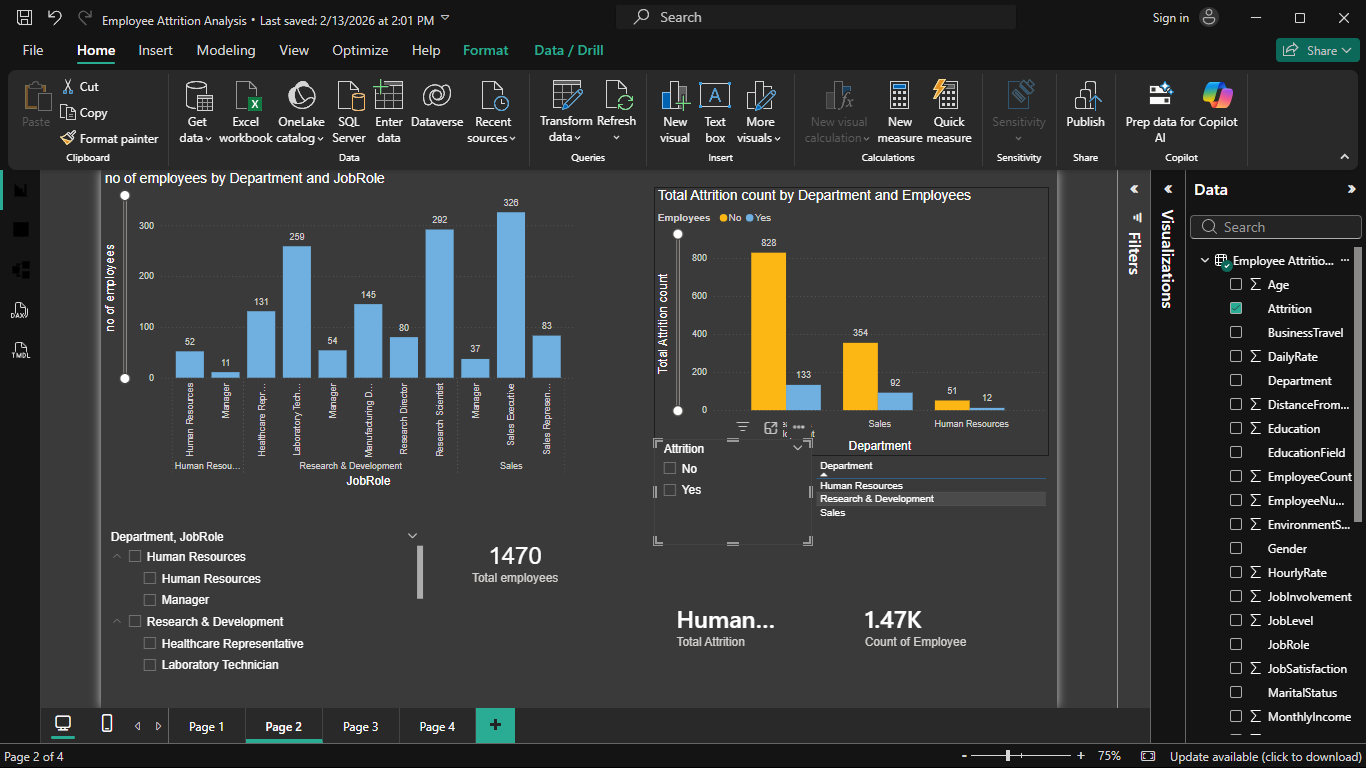

This screenshot's page, from the dashboard's own definition file:
{"tool":"powerbi","page":{"name":"Page 2","canvas":[1280,720],"ordinal":1},"visuals":[{"type":"columnChart","fields":{"Y":["CountNonNull(Employee Attrition Analysis.EmployeeNumber)"],"Category":["Employee Attrition Analysis.Department","Employee Attrition Analysis.JobRole"]},"box":[0,0,640,430],"z":0},{"type":"slicer","fields":{"Values":["Employee Attrition Analysis.Department","Employee Attrition Analysis.JobRole"]},"box":[0,477.1,435.7,200],"z":1000},{"type":"card","fields":{"Values":["Sum(Employee Attrition Analysis.EmployeeCount)"]},"box":[433.3,430,241.1,187.8],"z":2000},{"type":"clusteredColumnChart","fields":{"Series":["Employee Attrition Analysis.Attrition"],"Y":["CountNonNull(Employee Attrition Analysis.EmployeeCount)"],"Category":["Employee Attrition Analysis.Department"]},"box":[740,23.3,528.3,360],"z":3000},{"type":"slicer","fields":{"Values":["Employee Attrition Analysis.Attrition"]},"box":[740,360,211.4,141.4],"z":4000},{"type":"cardVisual","fields":{"Data":["Min(Employee Attrition Analysis.Department)","CountNonNull(Employee Attrition Analysis.Department)"]},"box":[740,500,530,217.1],"z":5000},{"type":"tableEx","fields":{"Values":["Employee Attrition Analysis.Department"]},"box":[951.7,383.3,318.3,140],"z":7000}]}

Visuals, with their boxes on the page's 1280x720 design canvas (x1, y1, x2, y2). These are canvas units, not pixel positions in the 1366x768 screenshot, which may show the page scaled, cropped or inside an application window:
columnChart - CountNonNull(Employee Attrition Analysis.EmployeeNumber) x Employee Attrition Analysis.Department: x1=0, y1=0, x2=640, y2=430
slicer - Employee Attrition Analysis.Department x Employee Attrition Analysis.JobRole: x1=0, y1=477, x2=436, y2=677
card - Sum(Employee Attrition Analysis.EmployeeCount): x1=433, y1=430, x2=674, y2=618
clusteredColumnChart - Employee Attrition Analysis.Attrition x CountNonNull(Employee Attrition Analysis.EmployeeCount): x1=740, y1=23, x2=1268, y2=383
slicer - Employee Attrition Analysis.Attrition: x1=740, y1=360, x2=951, y2=501
cardVisual - Min(Employee Attrition Analysis.Department) x CountNonNull(Employee Attrition Analysis.Department): x1=740, y1=500, x2=1270, y2=717
tableEx - Employee Attrition Analysis.Department: x1=952, y1=383, x2=1270, y2=523
